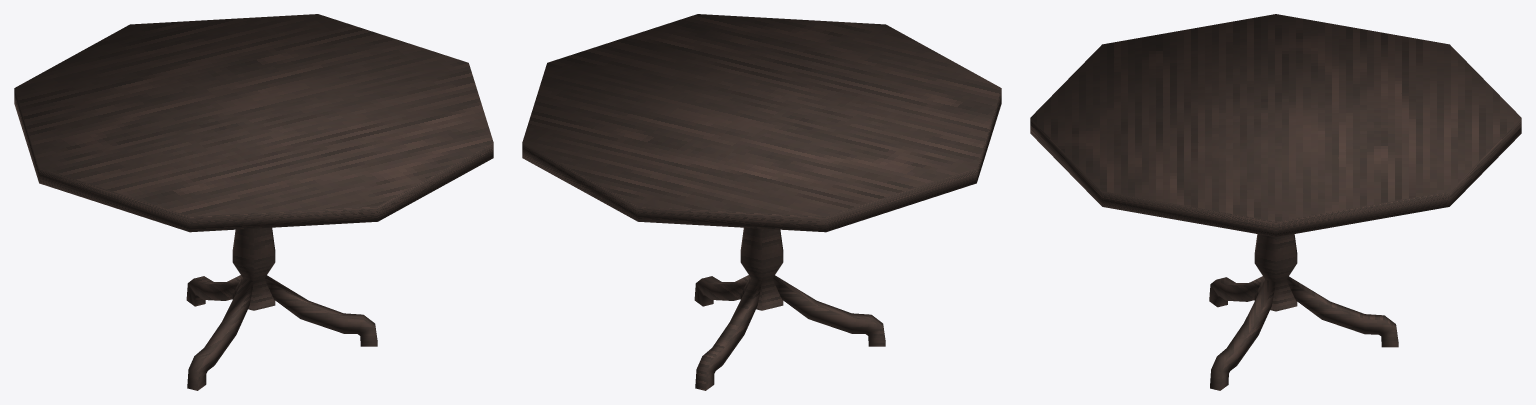
Rendered from Tablea.glb.
The picture shows the model from 3 angles, left to right: view 1: azimuth 30°, elevation 25°; view 2: azimuth 150°, elevation 25°; view 3: azimuth 270°, elevation 25°; orthographic projection.
Parts seen in each view (by area): view 1: Cylinder, Plane.001; view 2: Cylinder, Plane.001; view 3: Cylinder, Plane.001.
Boxes of the visible parts, x1,y1,x2,y2 form: Cylinder: (14,14,493,232); Plane.001: (186,227,377,390); Cylinder: (522,14,1001,232); Plane.001: (694,227,885,390); Cylinder: (1030,14,1521,237); Plane.001: (1209,234,1398,390).
Bounding box in the file's own units: 2 × 1.02 × 2.
Materials: 2 (2 with a texture image).
